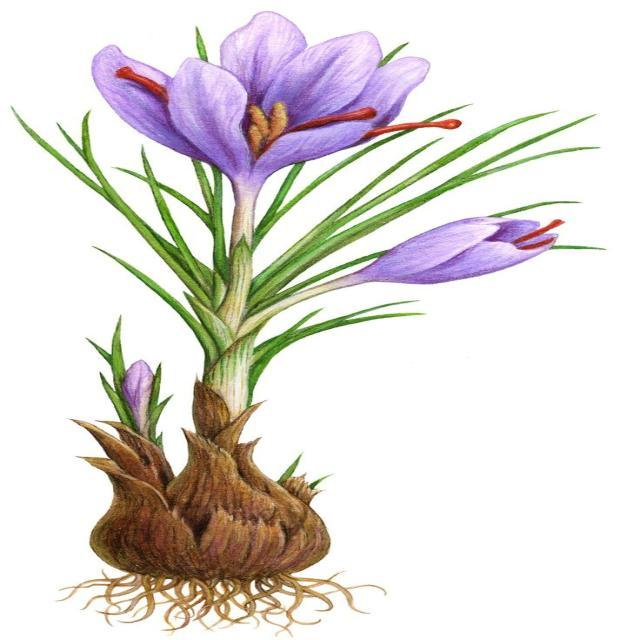Flower: (87, 8, 432, 186), (368, 204, 562, 291)
stigma: (232, 95, 384, 144), (371, 105, 458, 143), (509, 209, 566, 260), (110, 54, 168, 100)
